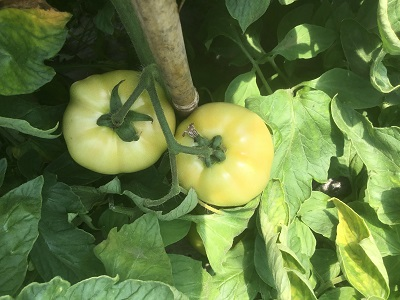immature-tomato: (64, 68, 174, 173), (170, 102, 275, 206)
